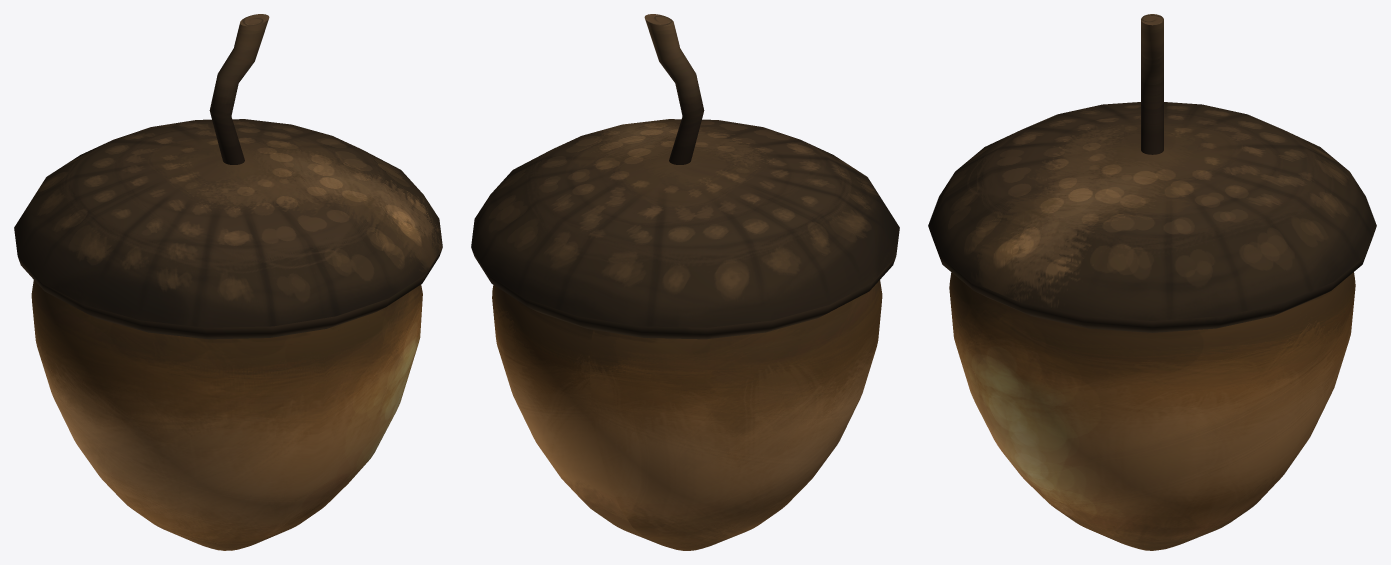
Rendered from nut.fbx.
The picture shows the model from 3 angles, left to right: view 1: azimuth 30°, elevation 25°; view 2: azimuth 150°, elevation 25°; view 3: azimuth 270°, elevation 25°; orthographic projection. The views are drawn at different scales.
Visible parts, largest first — view 1: pCylinder2; view 2: pCylinder2; view 3: pCylinder2.
Part boxes in pixels (x1=…): pCylinder2: x1=14, y1=14, x2=442, y2=550; pCylinder2: x1=471, y1=14, x2=899, y2=550; pCylinder2: x1=928, y1=14, x2=1376, y2=550.
Size of the model in its own units: 2.71 by 3.58 by 2.71.
Materials: 1 (1 with a texture image).
